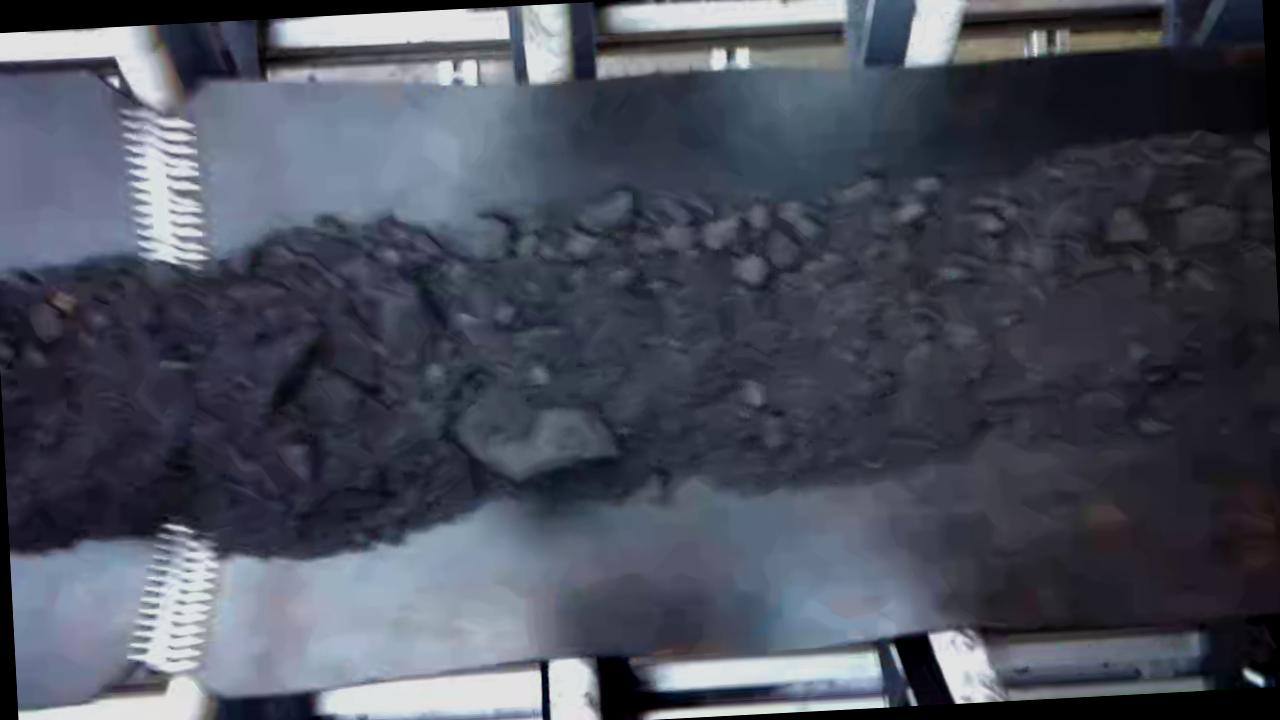conveyor: (0, 42, 1280, 670)
